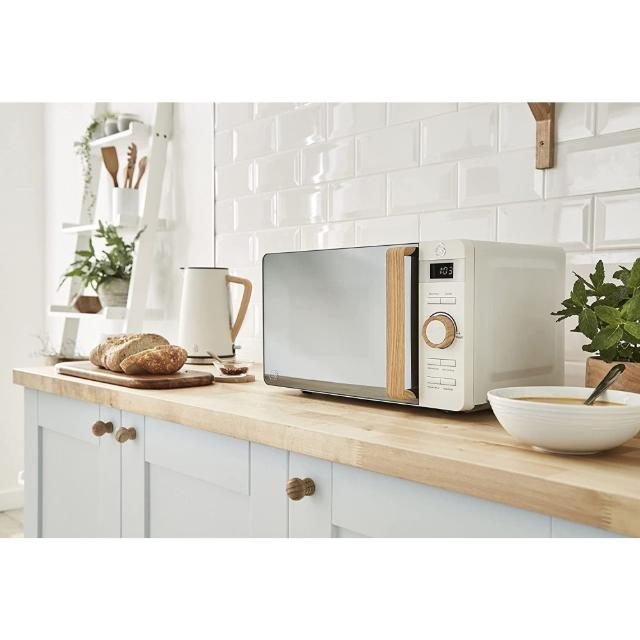Microwave: (256, 236, 570, 414)
